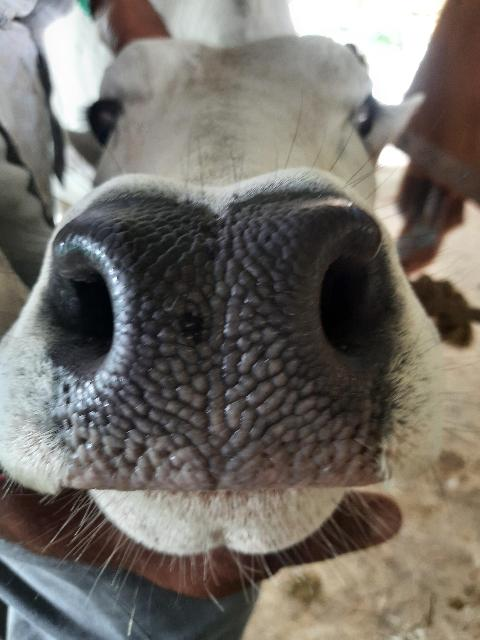Muzzle: (98, 206, 322, 479)
